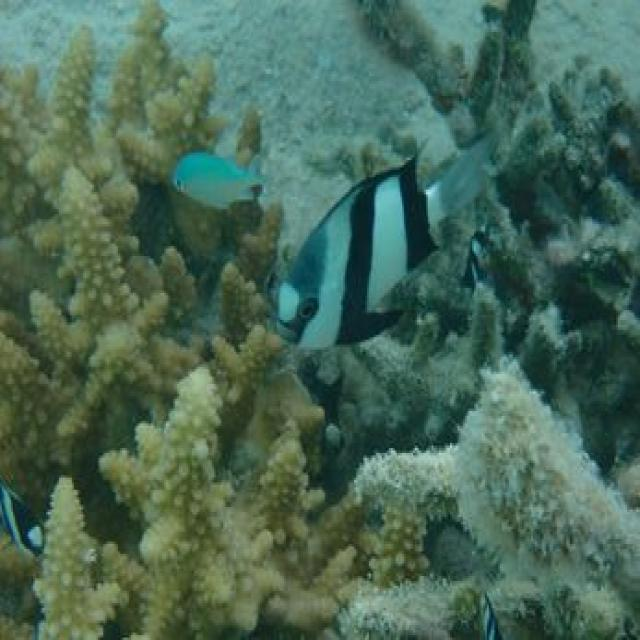ThreeStripedDamselfish: (275, 143, 487, 354)
